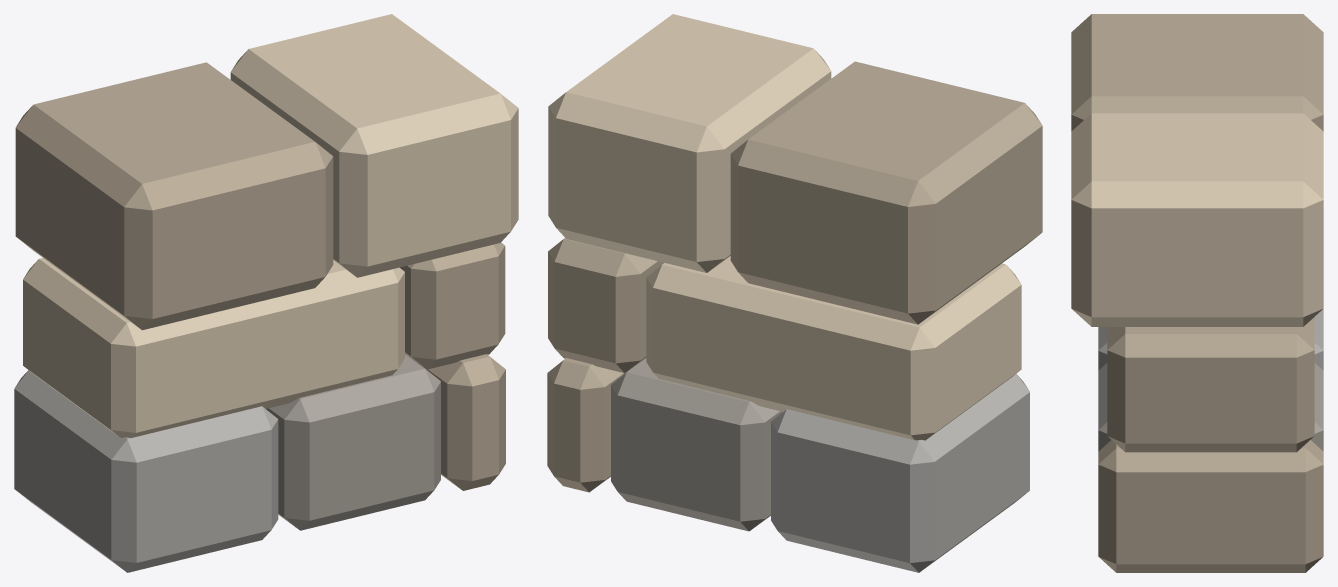
Rendered from plaza_edge_1m.glb.
The picture shows the model from 3 angles, left to right: view 1: azimuth 30°, elevation 25°; view 2: azimuth 150°, elevation 25°; view 3: azimuth 270°, elevation 25°; orthographic projection. The views are drawn at different scales.
Visible parts, largest first — view 1: plaza_edge_1m; view 2: plaza_edge_1m; view 3: plaza_edge_1m.
Part boxes in pixels (bbox=[...]): plaza_edge_1m: bbox=[14, 14, 518, 572]; plaza_edge_1m: bbox=[547, 14, 1042, 572]; plaza_edge_1m: bbox=[1071, 14, 1323, 572].
Size of the model in its own units: 0.995 by 0.9563 by 0.56.
